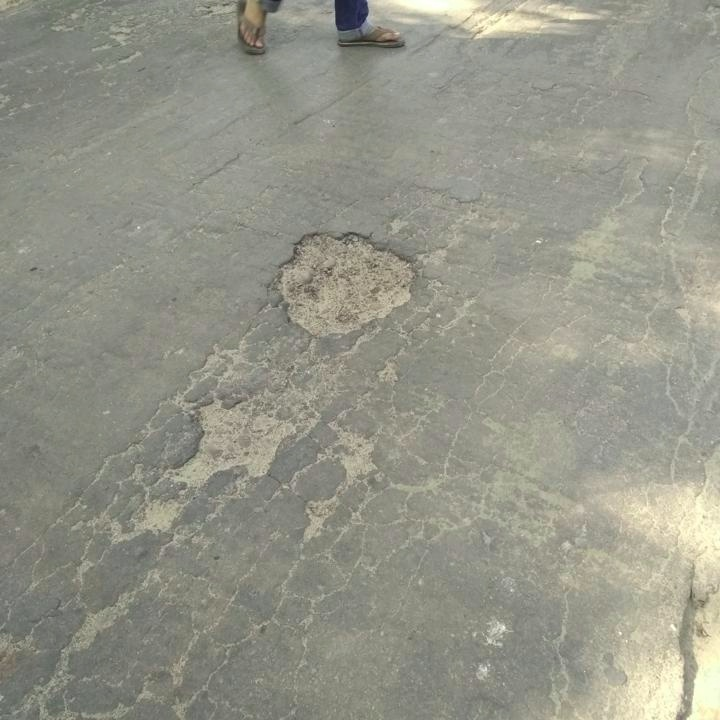pothole: (268, 226, 415, 338), (160, 393, 295, 484)
